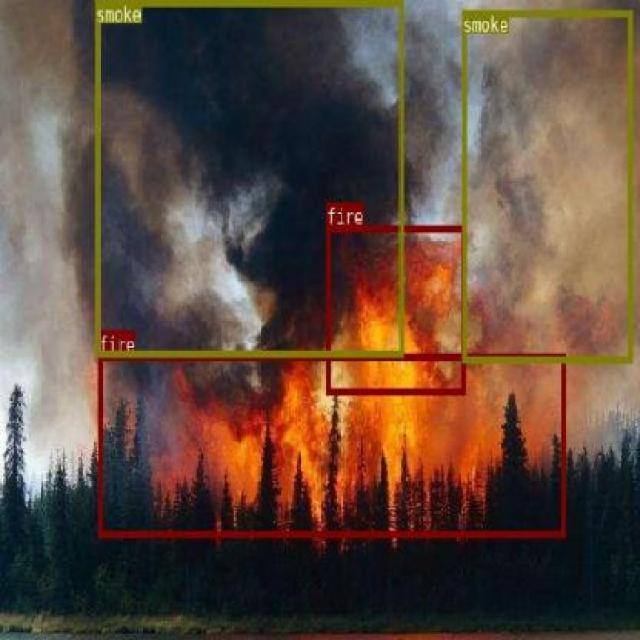fire: (97, 353, 565, 535), (326, 225, 464, 393)
smoke: (94, 0, 402, 355), (462, 9, 632, 362)
